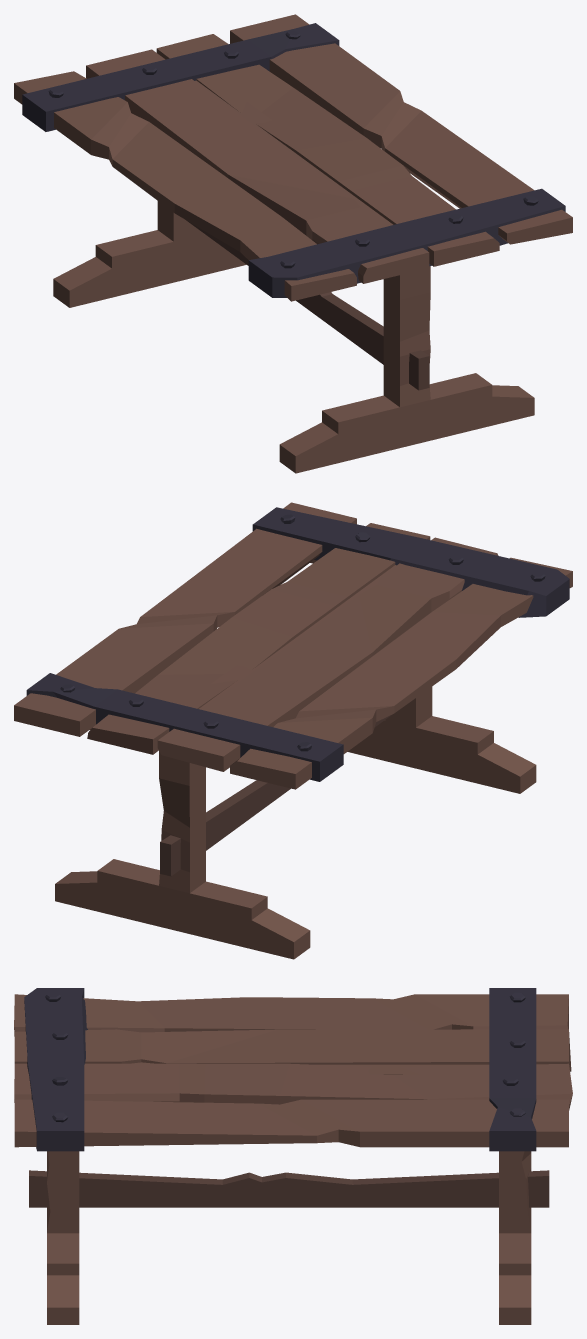
Rendered from crypt_table_lev3.glb.
The picture shows the model from 3 angles, top to bottom: view 1: azimuth 30°, elevation 25°; view 2: azimuth 150°, elevation 25°; view 3: azimuth 270°, elevation 25°; orthographic projection.
Visible parts, largest first — view 1: crypt_table_lev3; view 2: crypt_table_lev3; view 3: crypt_table_lev3.
Boxes of the visible parts, x1,y1,x2,y2 form: crypt_table_lev3: (14,14,572,473); crypt_table_lev3: (14,502,572,959); crypt_table_lev3: (14,988,572,1324).
Size of the model in its own units: 1.74 by 1.2 by 2.87.
